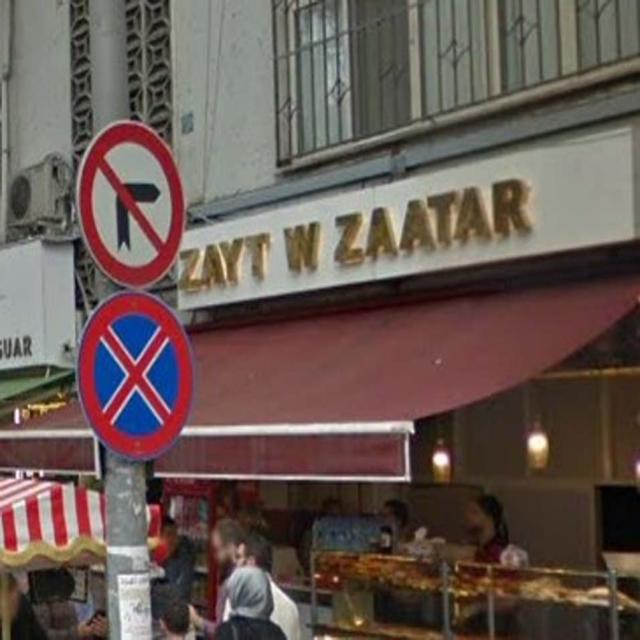sagadonulmez: (75, 120, 186, 288)
